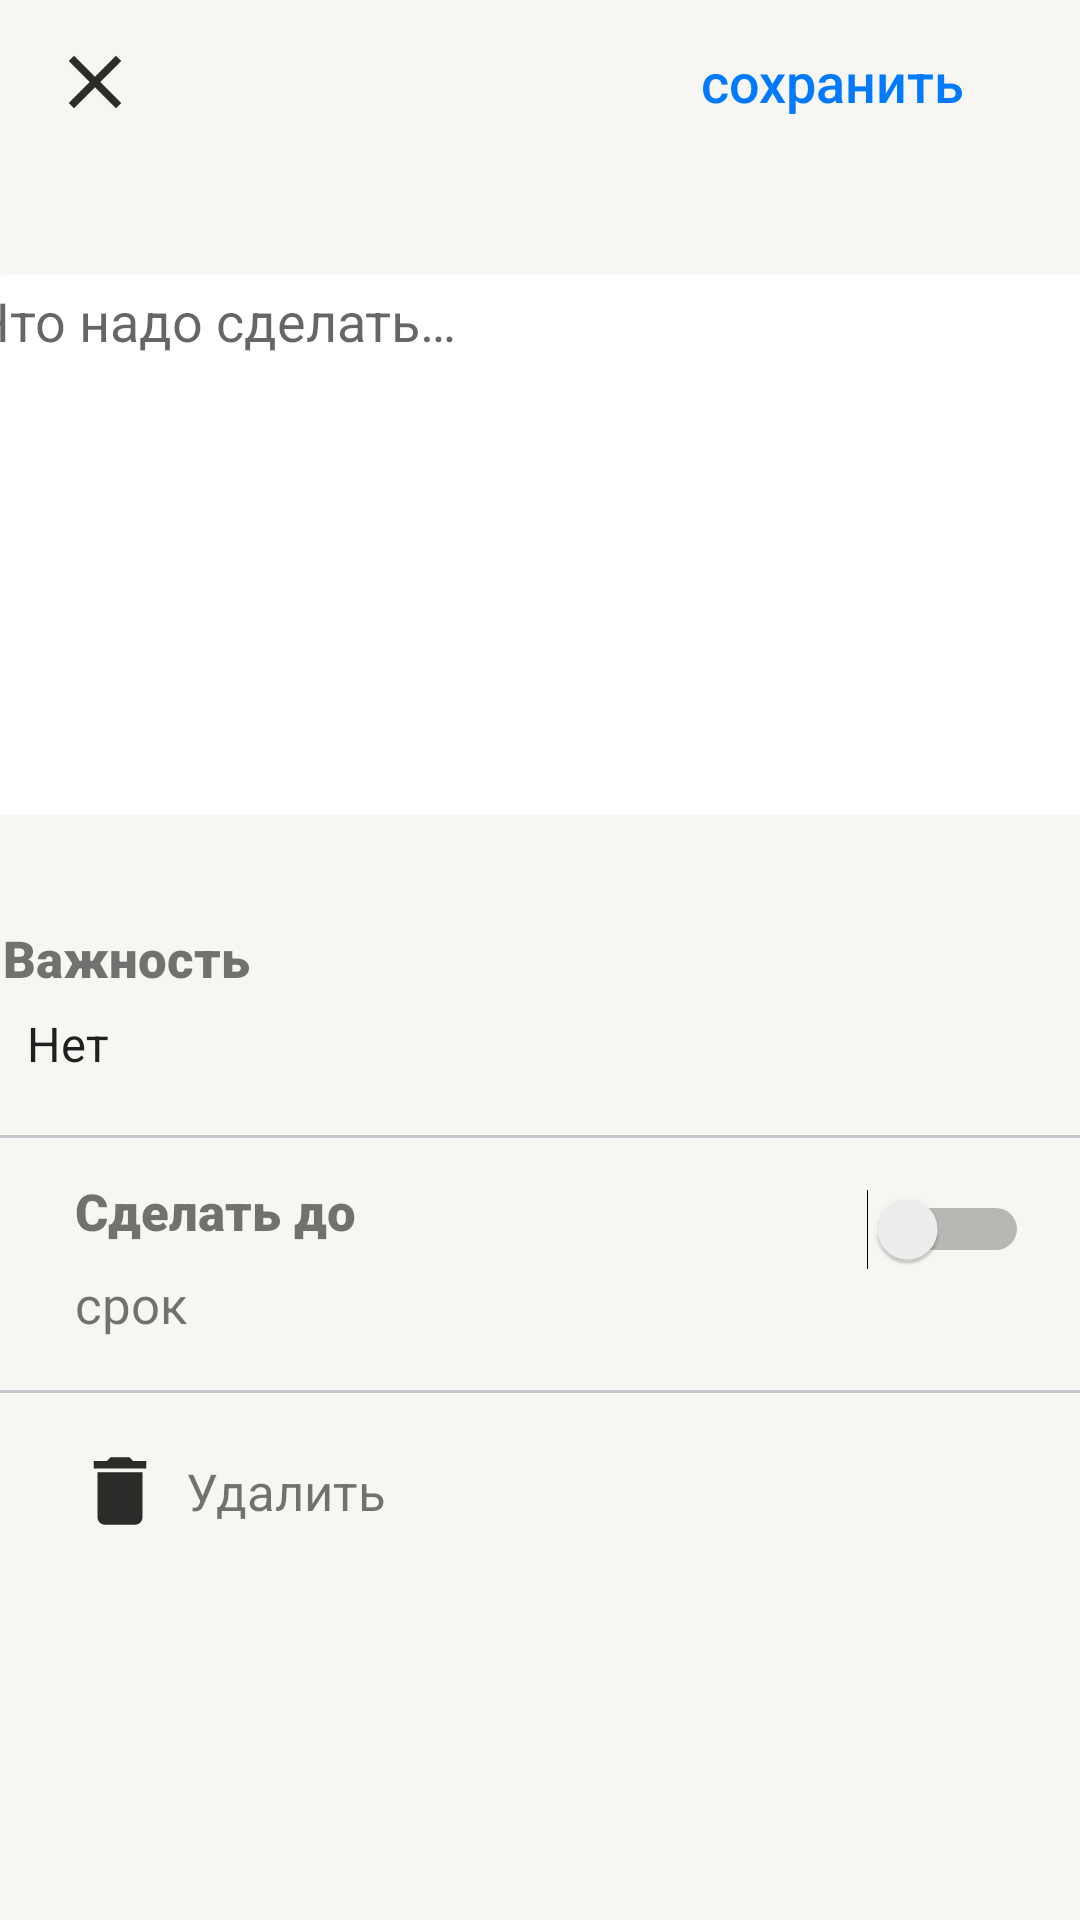

Icon click points for this 1080w x 1920h phone screenshot, format point (x, y):
close: point (95, 82)
delete: point (120, 1491)
